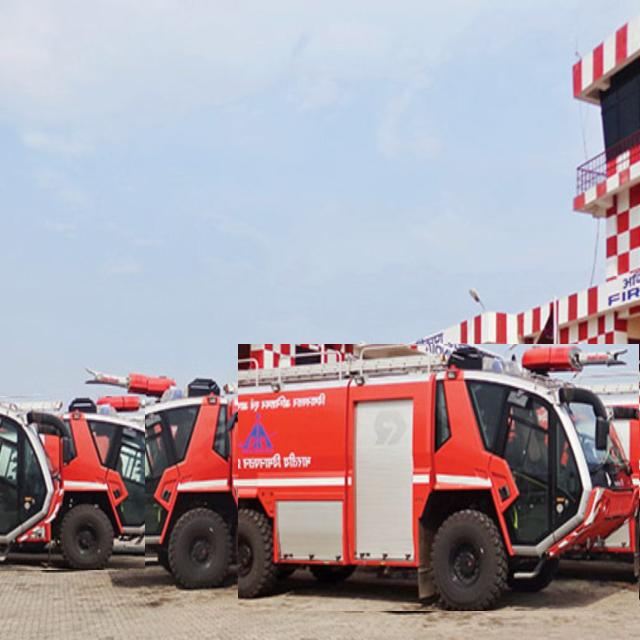emergency: (239, 345, 639, 611), (72, 370, 281, 588), (0, 396, 145, 570)
